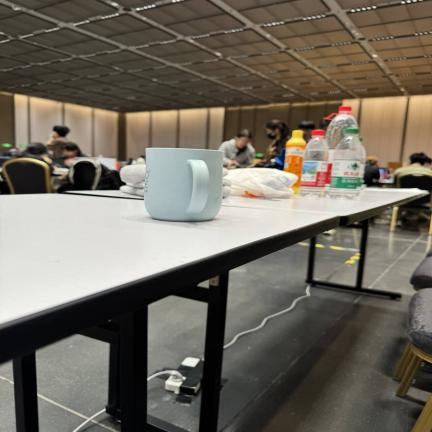cup: (144, 148, 223, 222)
